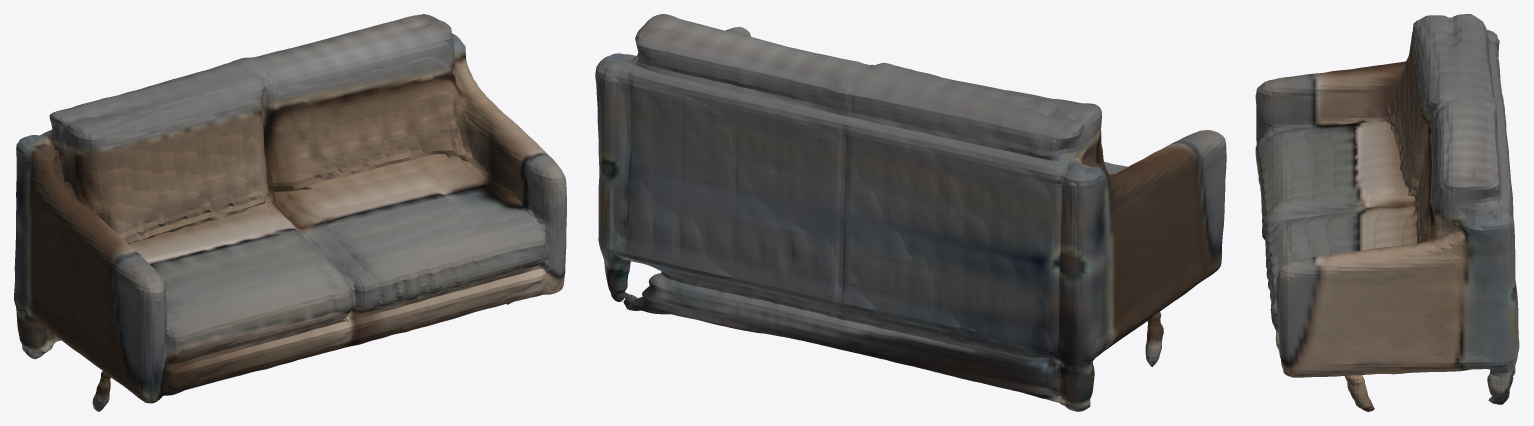
File: sofa-002.glb
The picture shows the model from 3 angles, left to right: view 1: azimuth 30°, elevation 25°; view 2: azimuth 150°, elevation 25°; view 3: azimuth 270°, elevation 25°; orthographic projection. The views are drawn at different scales.
Visible parts, largest first — view 1: geometry_0; view 2: geometry_0; view 3: geometry_0.
Boxes of the visible parts, x1,y1,x2,y2 form: geometry_0: (14,14,566,411); geometry_0: (595,14,1226,411); geometry_0: (1255,14,1519,411).
Bounding box in the file's own units: 150 × 82 × 85.
